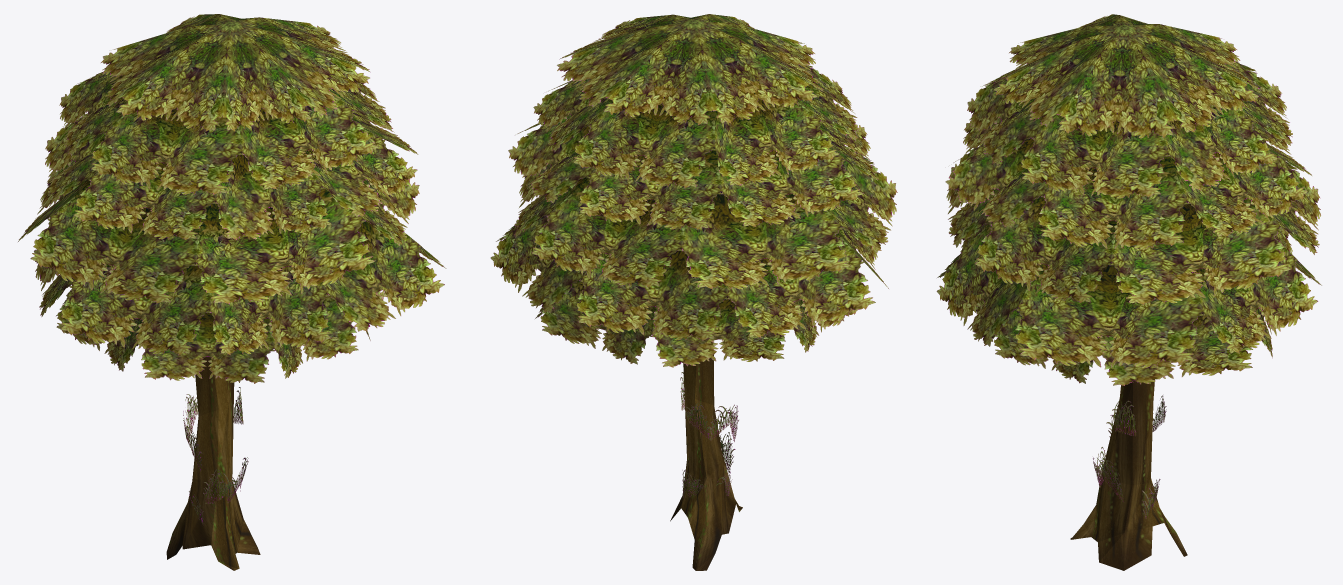
Rendered from n_SEatree02_01.glb.
The picture shows the model from 3 angles, left to right: view 1: azimuth 30°, elevation 25°; view 2: azimuth 150°, elevation 25°; view 3: azimuth 270°, elevation 25°; orthographic projection. The views are drawn at different scales.
Parts seen in each view (by area): view 1: n_SEatree02_01; view 2: n_SEatree02_01; view 3: n_SEatree02_01.
Boxes of the visible parts, box(x1,y1,x2,y2) form: n_SEatree02_01: box(18, 14, 446, 570); n_SEatree02_01: box(490, 14, 897, 570); n_SEatree02_01: box(936, 14, 1321, 570).
Size of the model in its own units: 3.87 by 5.3 by 3.5.
Materials: 3 (3 with a texture image).
